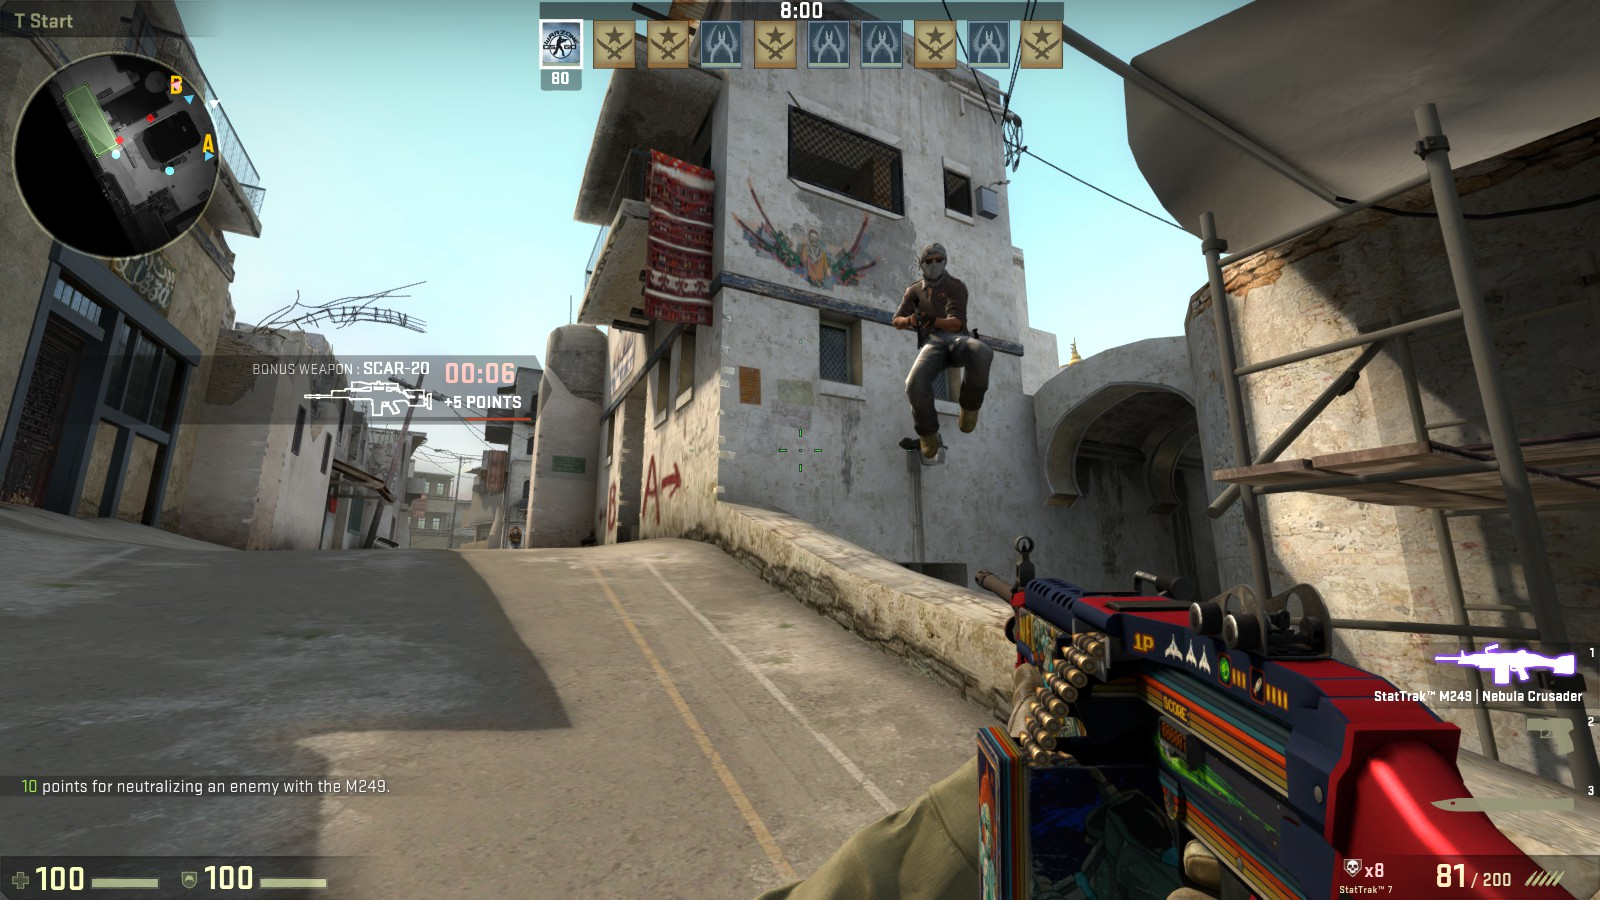t: (898, 231, 981, 455)
th: (916, 236, 955, 285)
